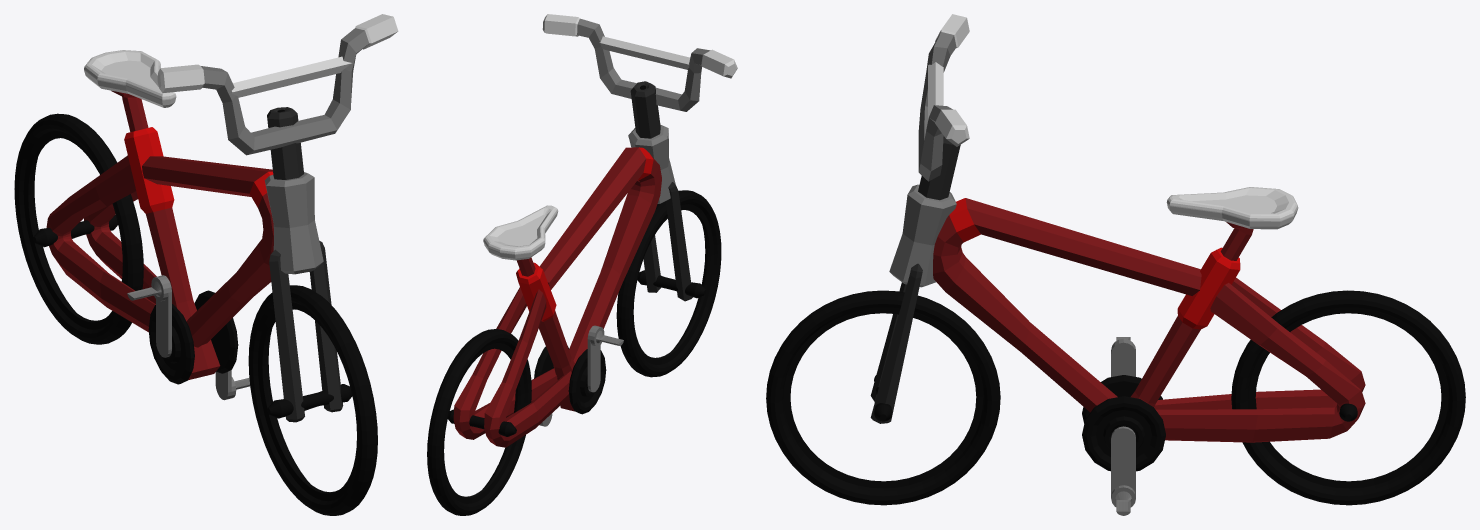
File: bike.fbx
3 renders of one model, left to right at view 1: azimuth 30°, elevation 25°; view 2: azimuth 150°, elevation 25°; view 3: azimuth 270°, elevation 25°, orthographic. The views are drawn at different scales.
Parts seen in each view (by area): view 1: Frame.028, Handlebar.028, FrontWheel, BackWheel.029, Cylinder.169, Circle.160, Circle.163, Circle.161, Circle.162; view 2: Frame.028, Handlebar.028, FrontWheel, BackWheel.029, Circle.160, Cylinder.169, Circle.163; view 3: Frame.028, FrontWheel, BackWheel.029, Handlebar.028, Circle.161, Cylinder.169, Circle.162, Circle.163.
Boxes of the visible parts, x1,y1,x2,y2 form: Frame.028: [46, 50, 273, 380]; Handlebar.028: [157, 14, 398, 422]; FrontWheel: [248, 285, 377, 515]; BackWheel.029: [14, 113, 143, 344]; Cylinder.169: [264, 172, 323, 274]; Circle.160: [148, 304, 194, 384]; Circle.163: [127, 275, 171, 357]; Circle.161: [194, 290, 238, 373]; Circle.162: [215, 370, 250, 400]; Frame.028: [453, 147, 661, 447]; Handlebar.028: [542, 14, 737, 301]; FrontWheel: [616, 190, 721, 377]; BackWheel.029: [427, 329, 531, 515]; Circle.160: [568, 349, 606, 414]; Cylinder.169: [628, 124, 675, 203]; Circle.163: [587, 325, 623, 392]; Frame.028: [933, 187, 1365, 442]; FrontWheel: [766, 290, 1000, 505]; BackWheel.029: [1231, 290, 1465, 505]; Handlebar.028: [870, 14, 969, 423]; Circle.161: [1082, 396, 1165, 471]; Cylinder.169: [889, 184, 956, 287]; Circle.162: [1111, 426, 1135, 515]; Circle.163: [1111, 337, 1135, 376].
Size of the model in its own units: 274 by 485 by 708.
